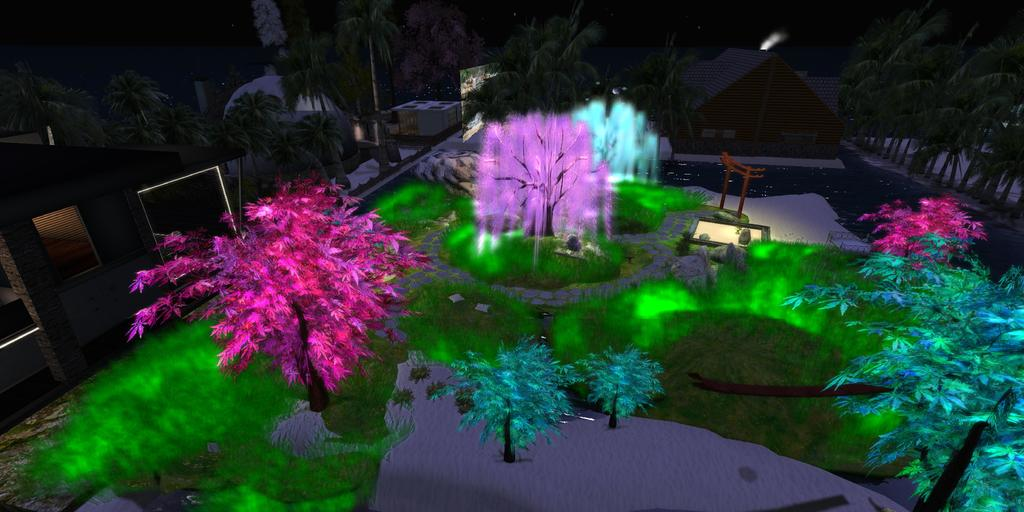Tree: (0, 0, 442, 172), (133, 168, 436, 416), (785, 232, 1023, 511), (826, 0, 1023, 223), (467, 86, 622, 256), (435, 333, 583, 463), (861, 186, 987, 277), (576, 346, 664, 433)
